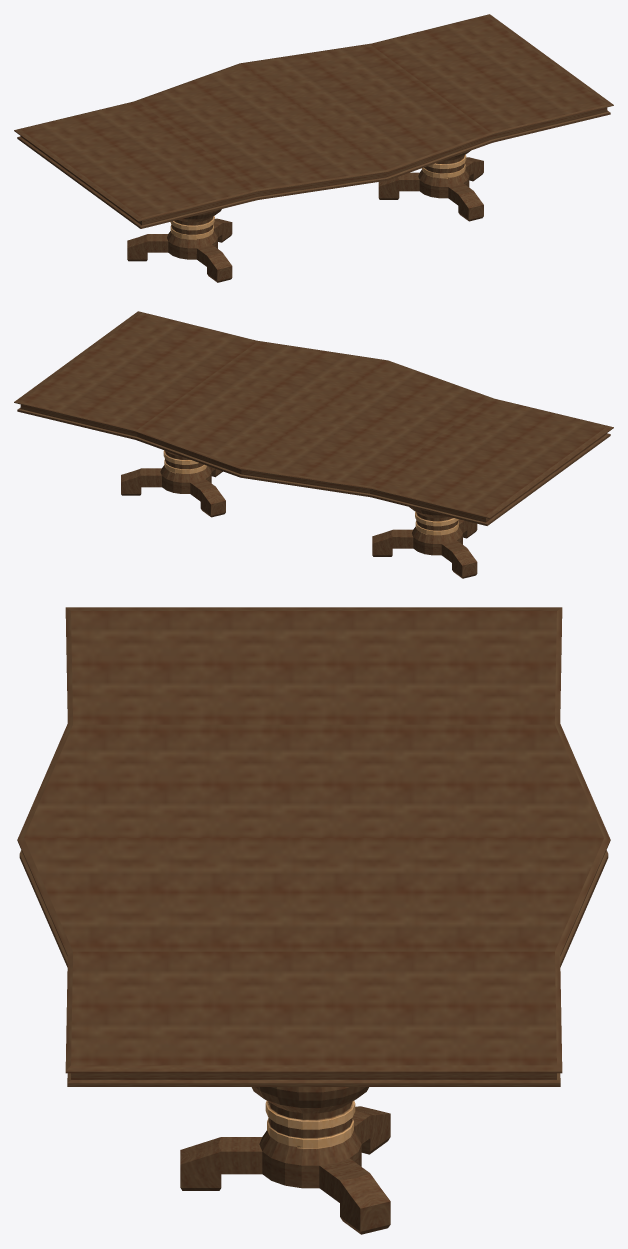
The model's file is MKU_table_dining_fin.fbx.
The picture shows the model from 3 angles, top to bottom: view 1: azimuth 30°, elevation 25°; view 2: azimuth 150°, elevation 25°; view 3: azimuth 270°, elevation 25°; orthographic projection. The views are drawn at different scales.
Visible parts, largest first — view 1: dining table; view 2: dining table; view 3: dining table.
Part boxes in pixels (x1=…): dining table: x1=14, y1=14, x2=613, y2=282; dining table: x1=14, y1=311, x2=613, y2=578; dining table: x1=17, y1=607, x2=610, y2=1234.
Size of the model in its own units: 778 by 173 by 420.
